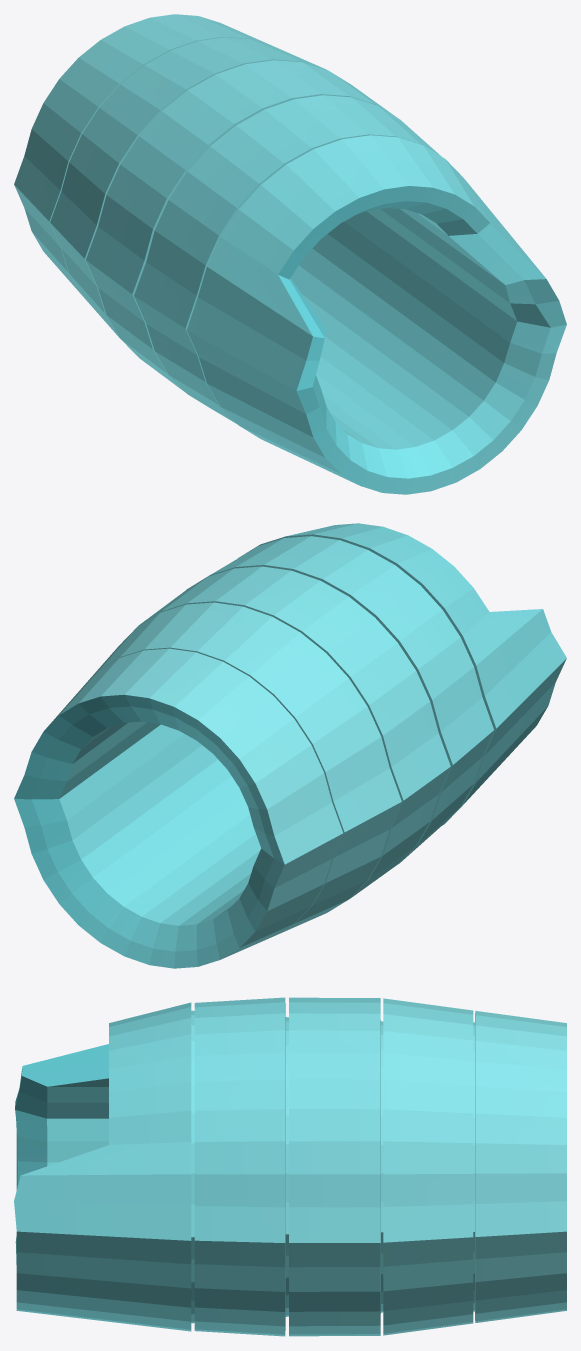
Rendered from prop 3.fbx.
3 views of the same model, one above another, from view 1: azimuth 30°, elevation 25°; view 2: azimuth 150°, elevation 25°; view 3: azimuth 270°, elevation 25° (orthographic). The views are drawn at different scales.
Parts seen in each view (by area): view 1: Cylinder; view 2: Cylinder; view 3: Cylinder.
Part boxes in pixels (box(x1,y1,x2,y2)): Cylinder: box(14, 14, 566, 494); Cylinder: box(14, 523, 566, 968); Cylinder: box(14, 997, 566, 1336).
Bounding box in the file's own units: 1104 × 1039 × 1694.
Materials: 1 (1 with a texture image).
